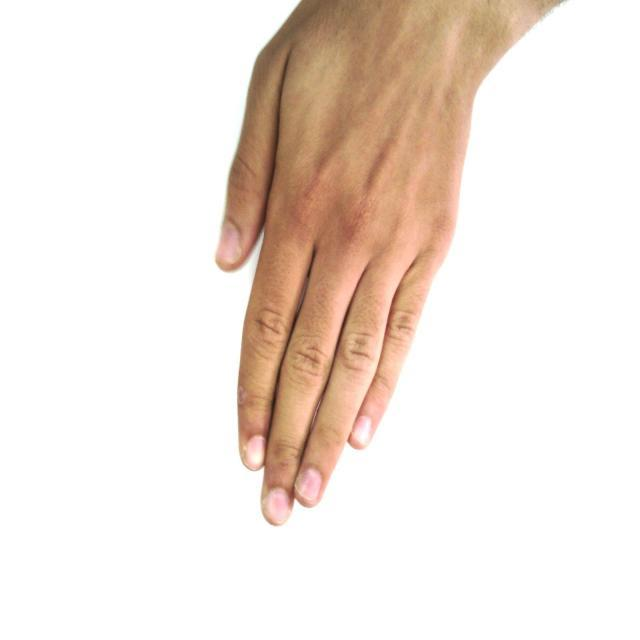Fingernail: (298, 468, 322, 505), (218, 222, 240, 262), (266, 489, 291, 524), (351, 417, 372, 447), (246, 436, 264, 468)
